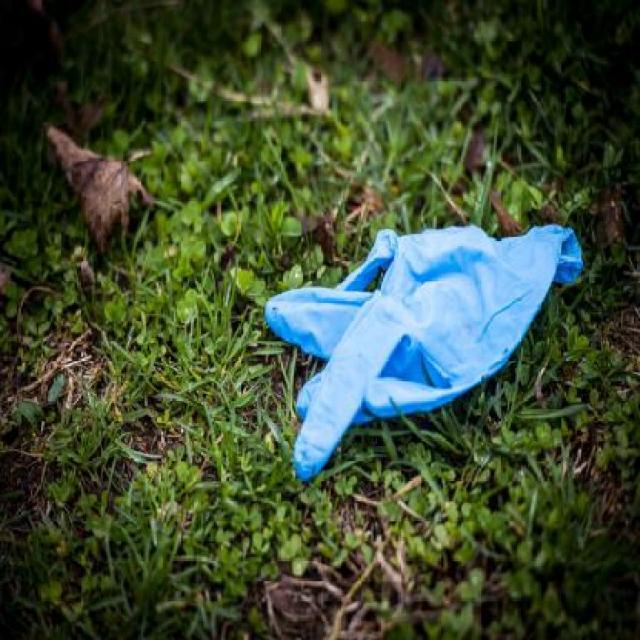Gloves: (235, 218, 586, 480)
